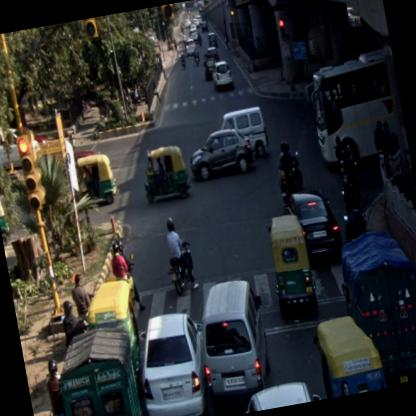bus: (299, 50, 404, 174)
car: (190, 275, 275, 398), (129, 305, 218, 415), (282, 184, 346, 272), (185, 124, 255, 183), (236, 376, 324, 412), (217, 106, 269, 162), (210, 58, 234, 93), (203, 44, 221, 66), (184, 36, 198, 58), (208, 32, 217, 46)
motorcycle: (158, 212, 200, 297), (108, 233, 145, 313), (35, 359, 72, 415), (274, 140, 308, 198), (178, 48, 187, 70), (192, 47, 200, 66)
truck: (333, 224, 415, 392), (53, 322, 147, 415)
